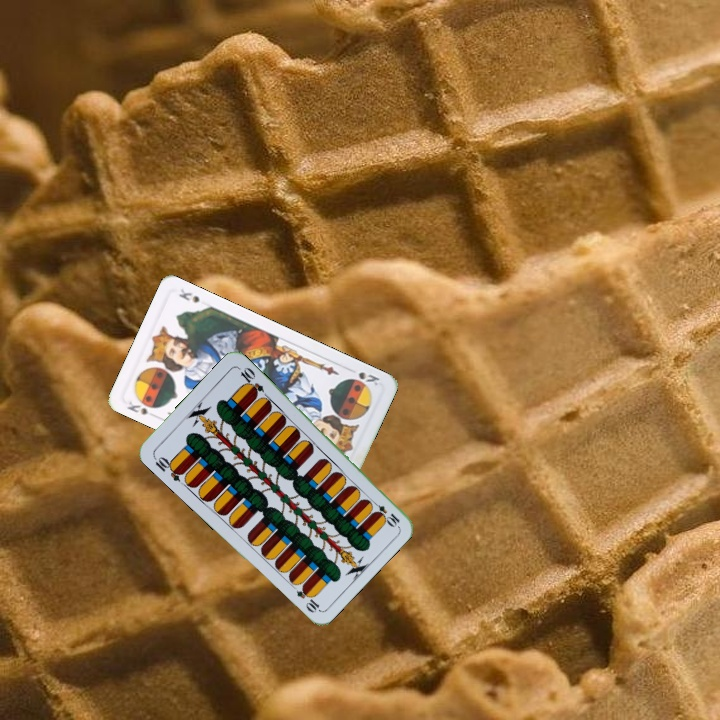E10: (150, 452, 186, 484), (367, 496, 402, 528)
SK: (123, 397, 160, 421), (345, 368, 383, 389)
